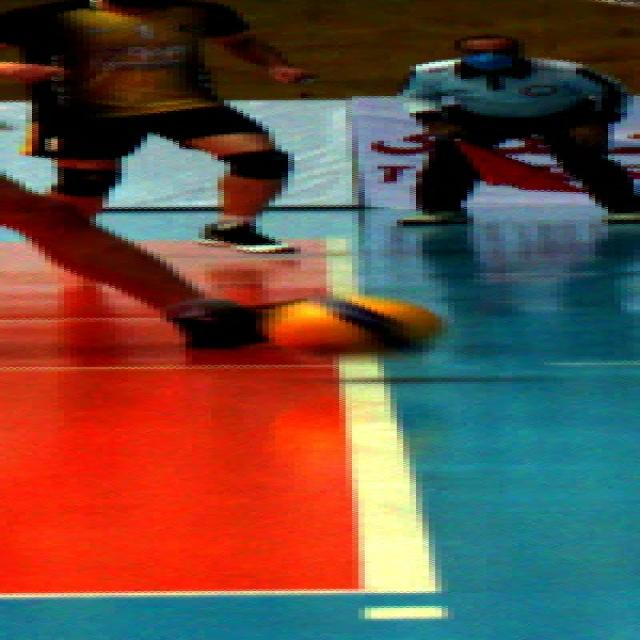Volleyball: (268, 296, 448, 354)
